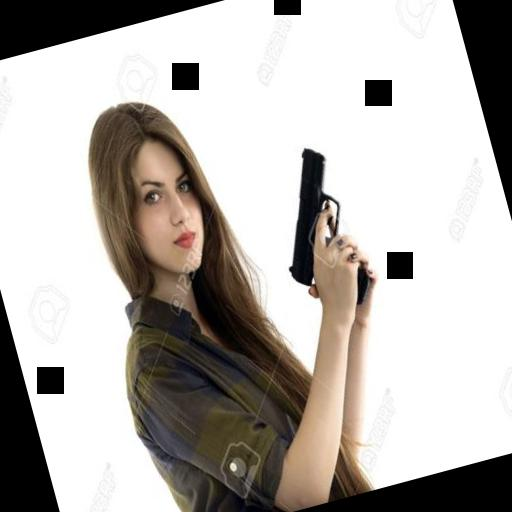Handgun: (248, 136, 378, 330)
